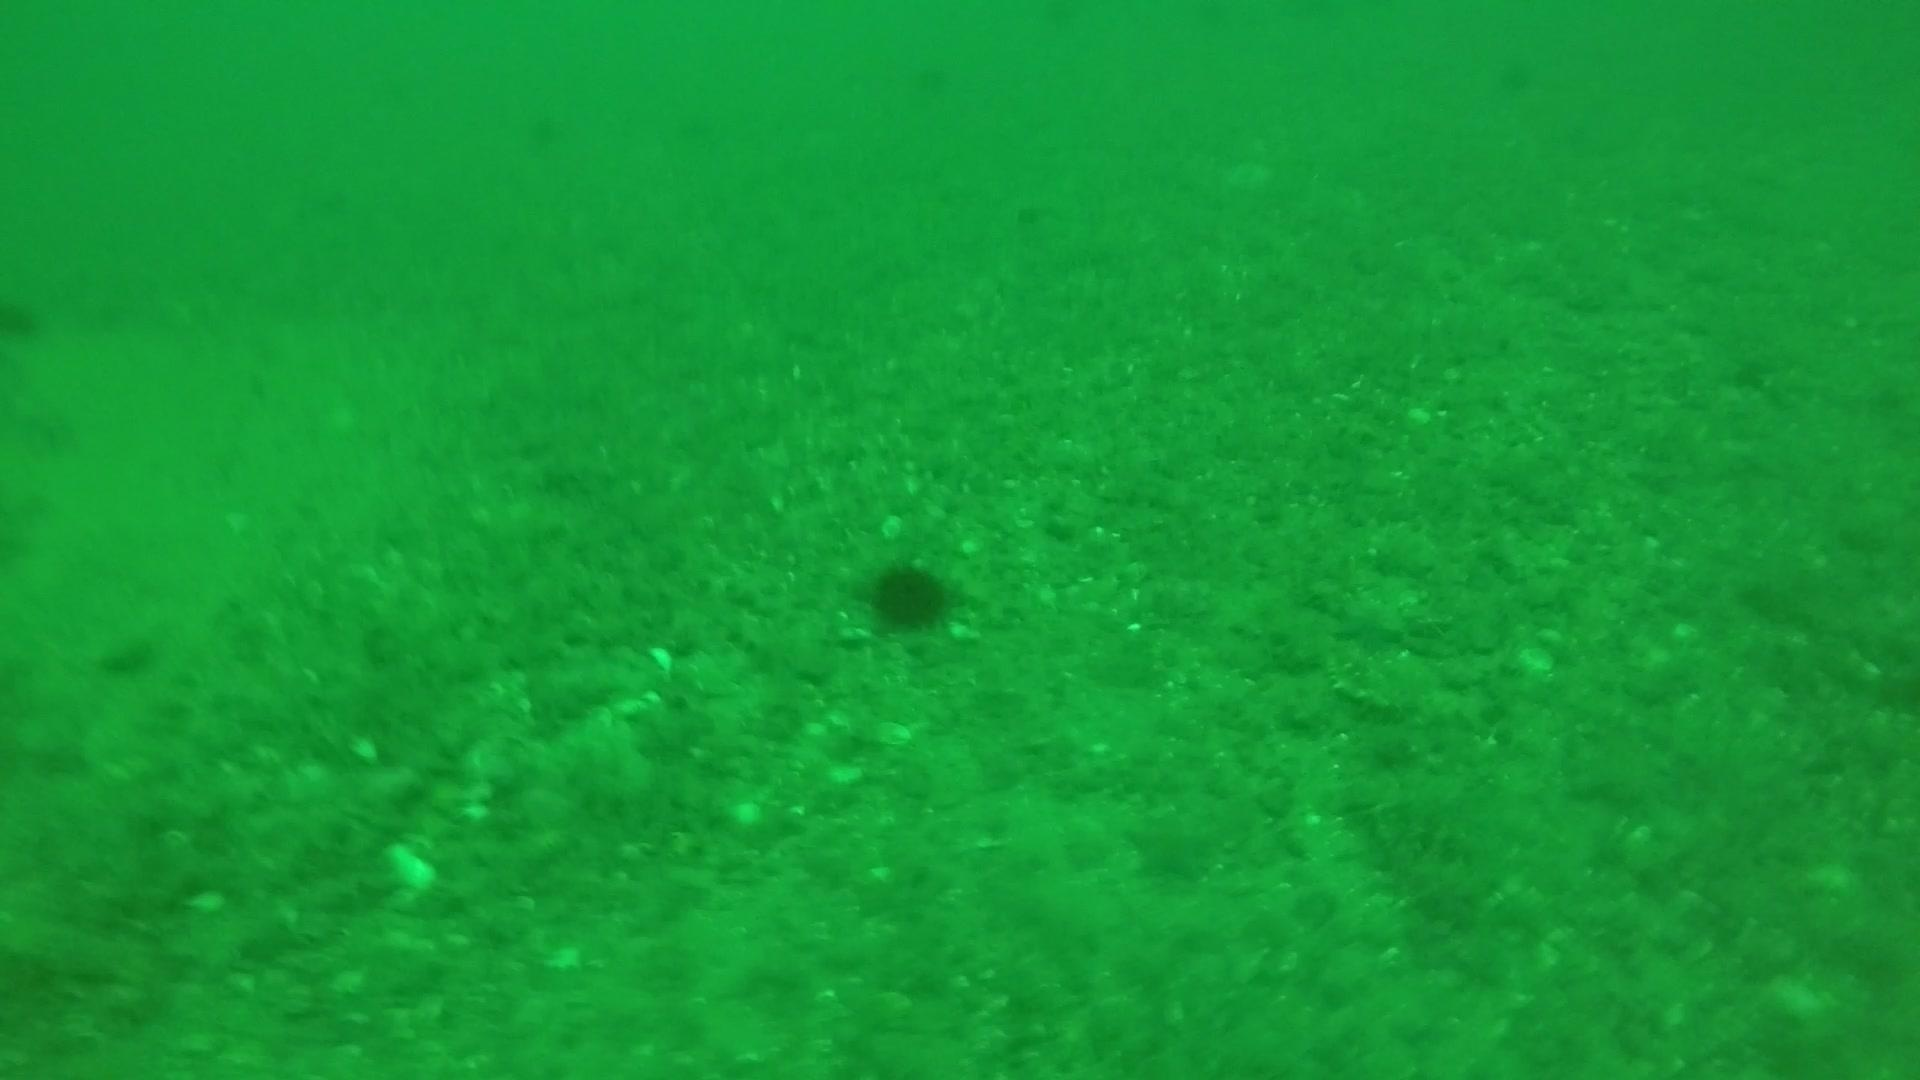echinus: (858, 553, 963, 640), (0, 287, 49, 348)
starfish: (1121, 803, 1221, 886), (1325, 589, 1418, 653)
